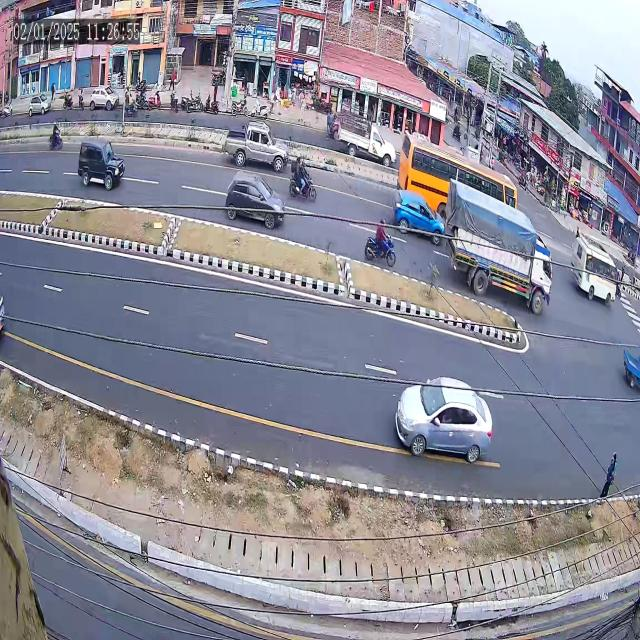car: (379, 350, 501, 470), (217, 170, 288, 238)
motorcycle: (357, 212, 400, 276), (285, 152, 322, 207), (48, 118, 68, 154)
